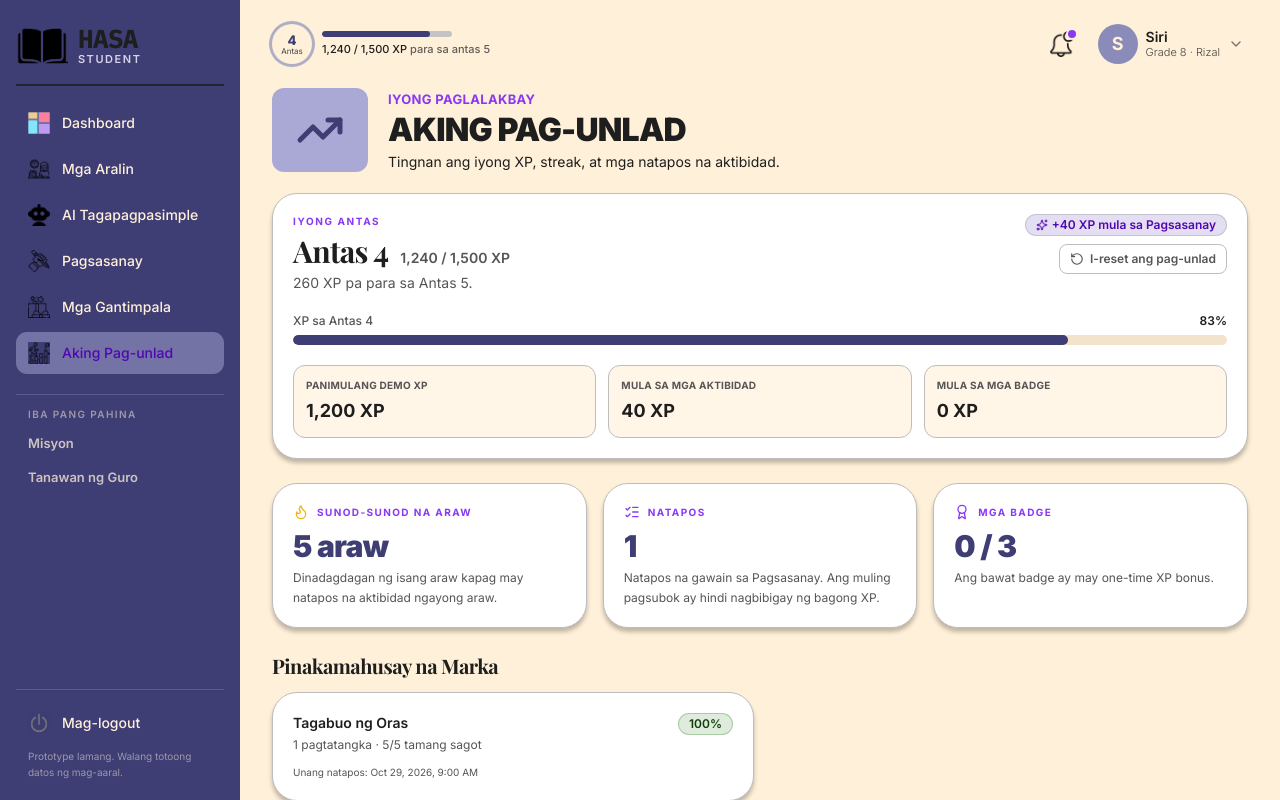
Test: pag-reset ng lokal na pag-unlad › binubura ang naka-save na progreso pagkatapos ng kumpirmasyon
The width and height of the screenshot is (1280, 800).
Expected: the text "Tagabuo ng Oras" is shown, [293,714,408,731]
Click the button "I-reset ang pag-unlad" at (1143, 259), box [1059,244,1227,274]
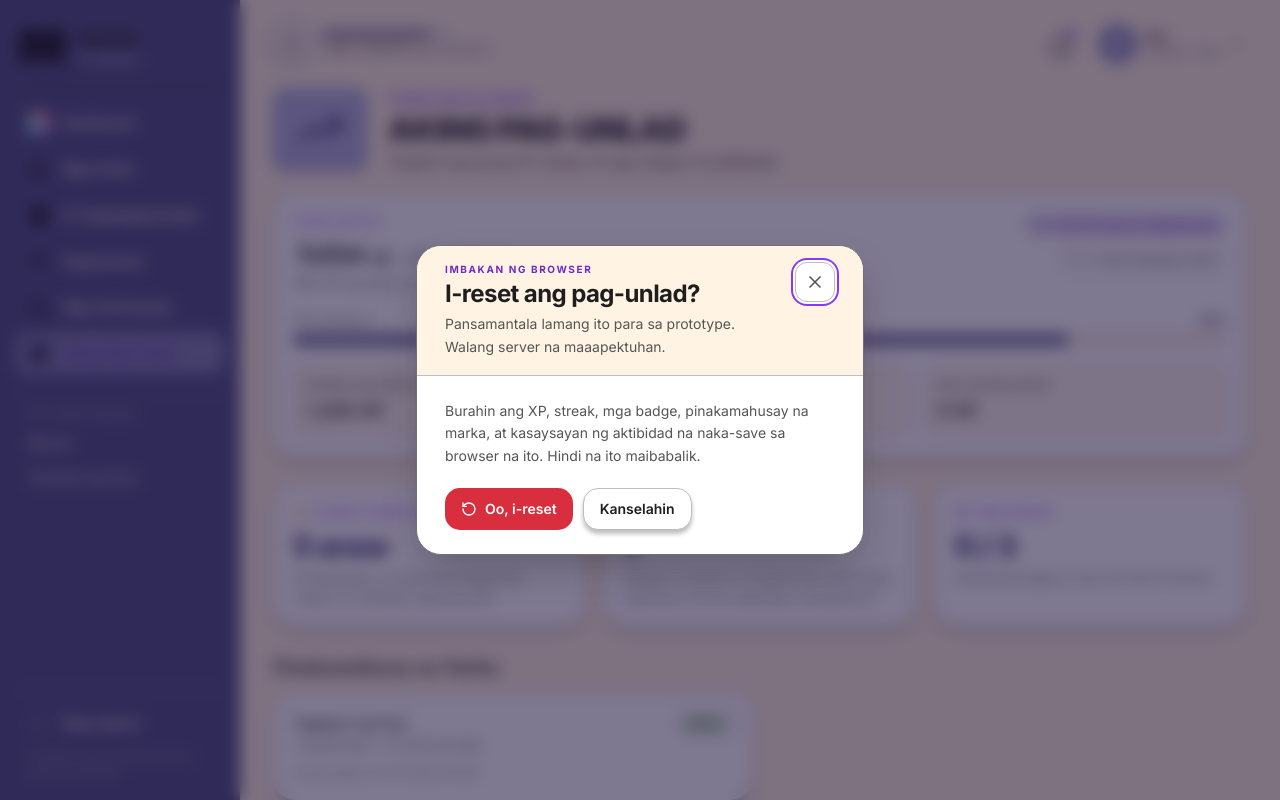
Click the button "Oo, i-reset" at (509, 509), box [445,488,573,530]
(page scrolled)
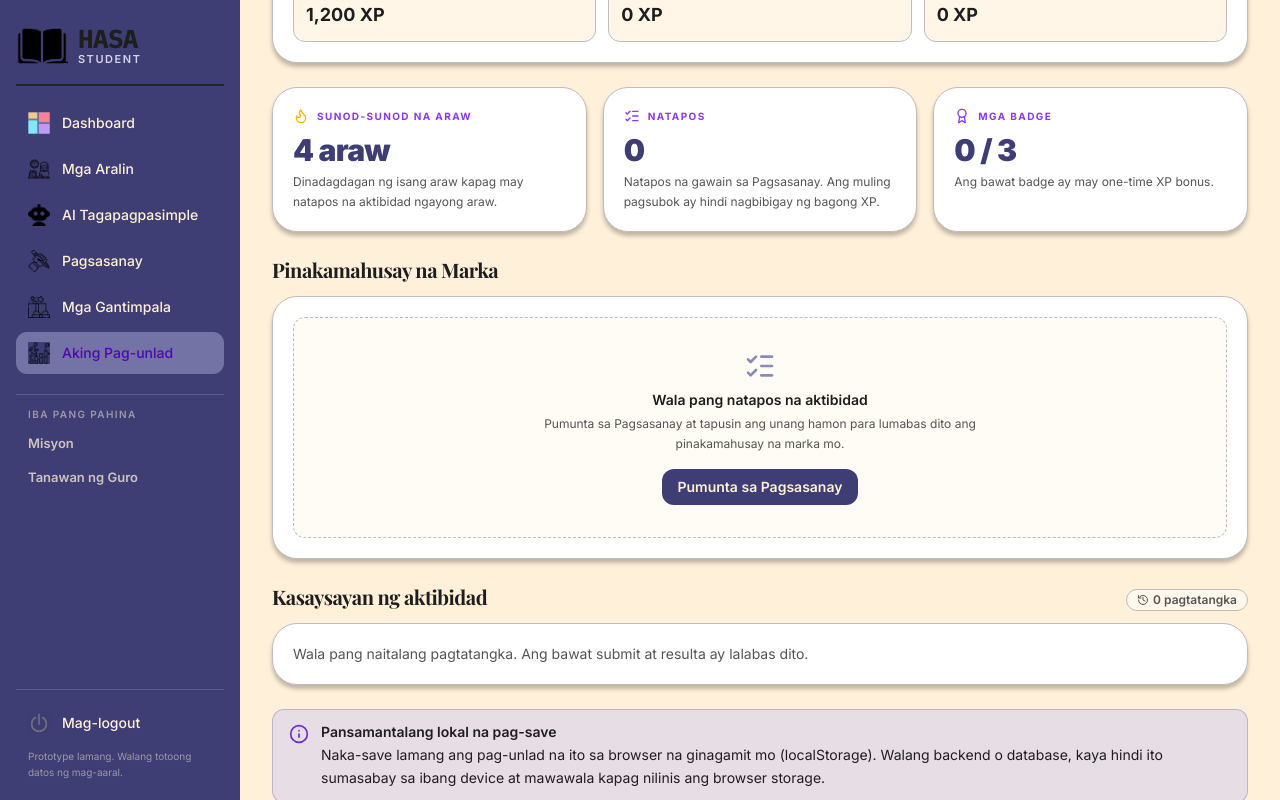
Expected: the text "Wala pang naitalang pagtatangka" is shown, [293,645,808,662]
Expected: the text "Wala pang natapos na aktibidad" is shown, [652,390,868,410]
